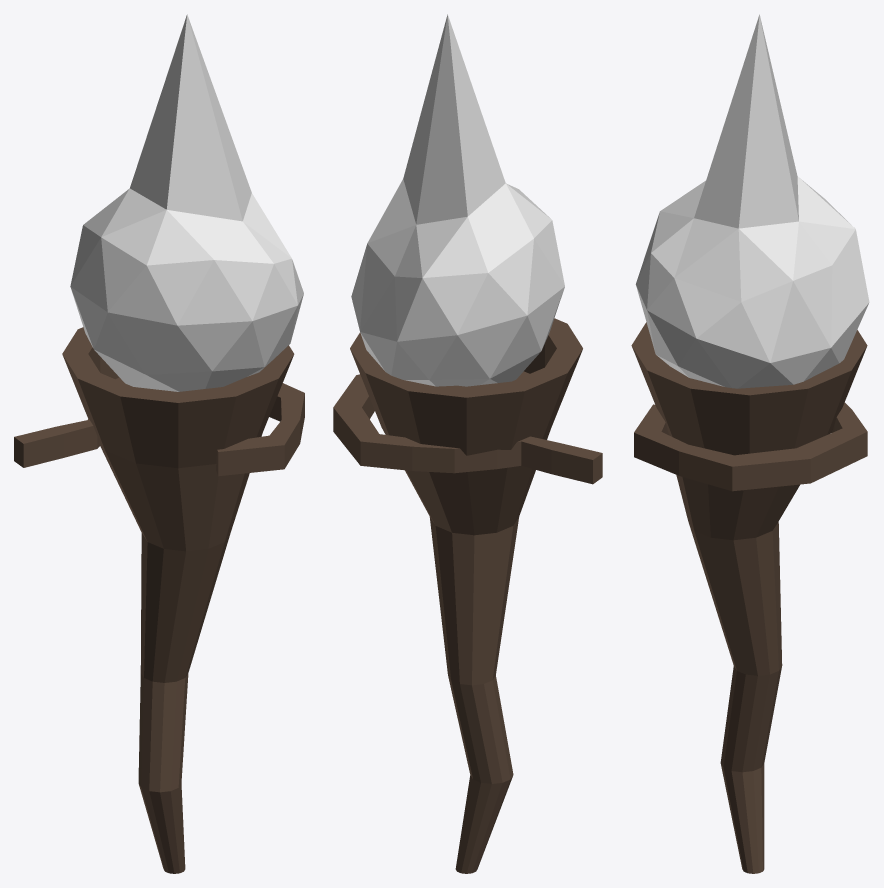
The model's file is Witch_fire.fbx.
3 renders of one model, left to right at view 1: azimuth 30°, elevation 25°; view 2: azimuth 150°, elevation 25°; view 3: azimuth 270°, elevation 25°, orthographic.
Visible parts, largest first — view 1: fire; view 2: fire; view 3: fire.
Part boxes in pixels (x1,y1,x2,y2): fire: (14,14,304,873); fire: (333,14,602,873); fire: (631,14,869,873).
Bounding box in the file's own units: 70.67 × 218 × 54.44.
